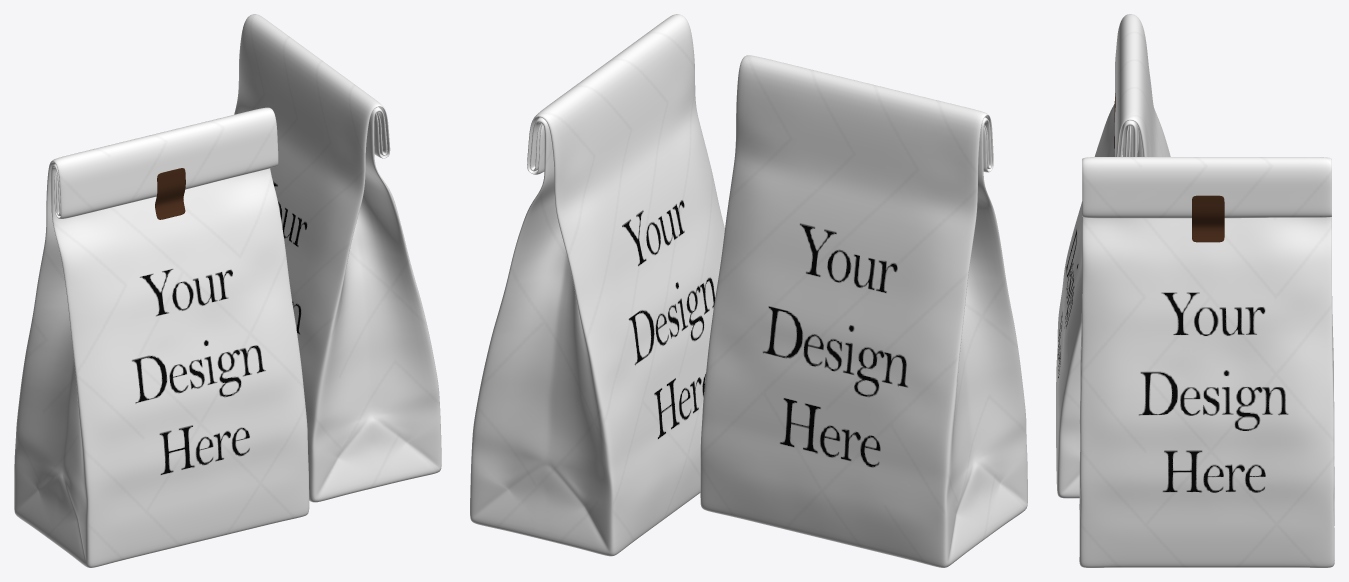
The model's file is Kraft paper A-2.glb.
The picture shows the model from 3 angles, left to right: view 1: azimuth 30°, elevation 25°; view 2: azimuth 150°, elevation 25°; view 3: azimuth 270°, elevation 25°; orthographic projection. The views are drawn at different scales.
Parts seen in each view (by area): view 1: _gltfNode_0.001, _gltfNode_0, _gltfNode_1.001; view 2: _gltfNode_0.001, _gltfNode_0; view 3: _gltfNode_0, _gltfNode_0.001, _gltfNode_1.
Part boxes in pixels (bbox=[...]): _gltfNode_0.001: bbox=[14, 107, 309, 567]; _gltfNode_0: bbox=[234, 14, 441, 502]; _gltfNode_1.001: bbox=[155, 168, 185, 219]; _gltfNode_0.001: bbox=[700, 55, 1027, 567]; _gltfNode_0: bbox=[470, 14, 724, 556]; _gltfNode_0: bbox=[1079, 157, 1334, 567]; _gltfNode_0.001: bbox=[1056, 14, 1170, 498]; _gltfNode_1: bbox=[1192, 195, 1224, 242].
Bounding box in the file's own units: 21.25 × 21.2 × 14.06.
2 materials, 1 textured.
